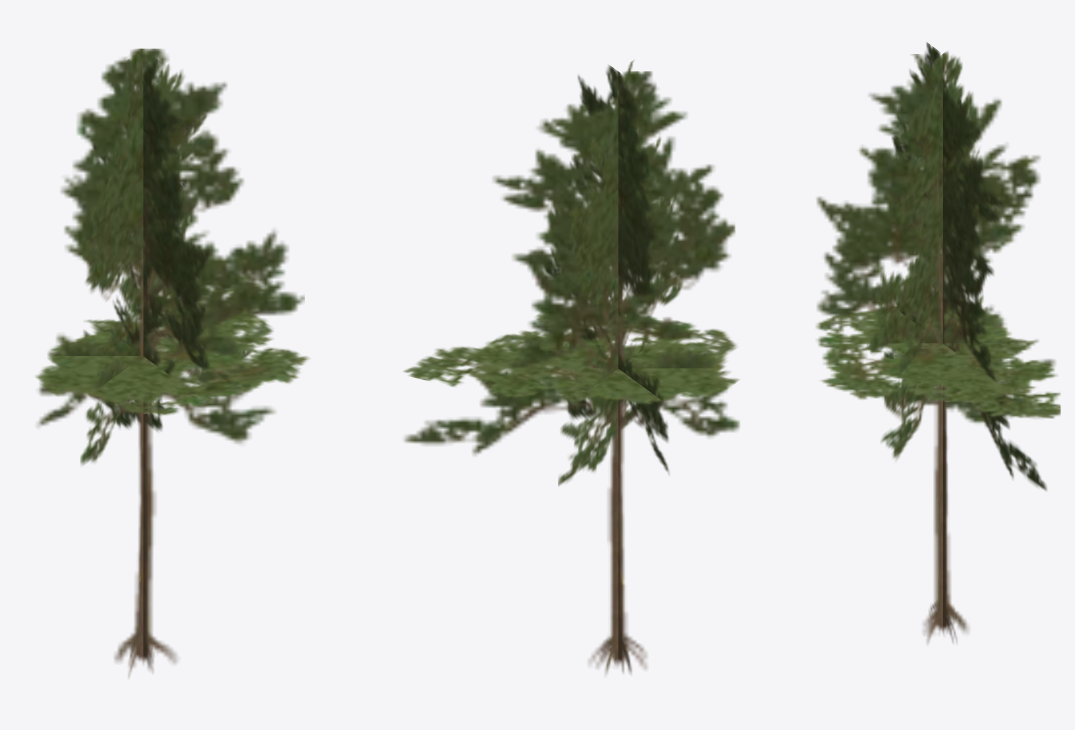
Rendered from tpine4_far.glb.
3 views of the same model, side by side, from view 1: azimuth 30°, elevation 25°; view 2: azimuth 150°, elevation 25°; view 3: azimuth 270°, elevation 25° (orthographic). The views are drawn at different scales.
Parts seen in each view (by area): view 1: prefab; view 2: prefab; view 3: prefab.
Part boxes in pixels (bbox=[...]): prefab: bbox=[35, 48, 309, 676]; prefab: bbox=[403, 60, 739, 673]; prefab: bbox=[816, 42, 1060, 643].
Size of the model in its own units: 5.42 by 11.72 by 4.45.
1 material, 1 textured.
